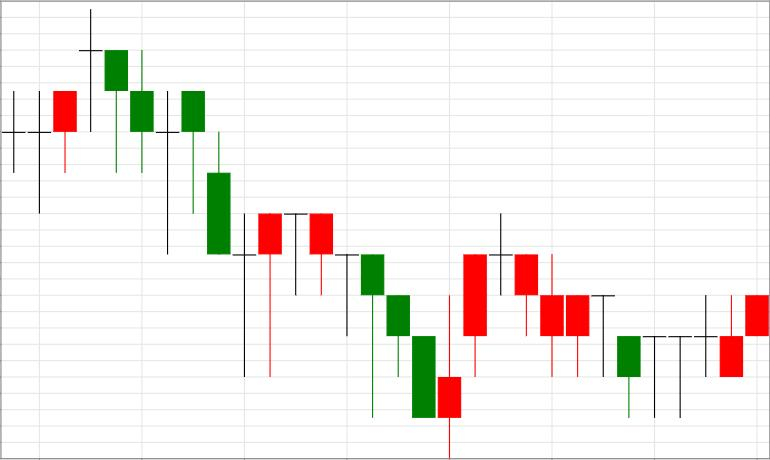hammer_rise: (80, 9, 282, 376)
